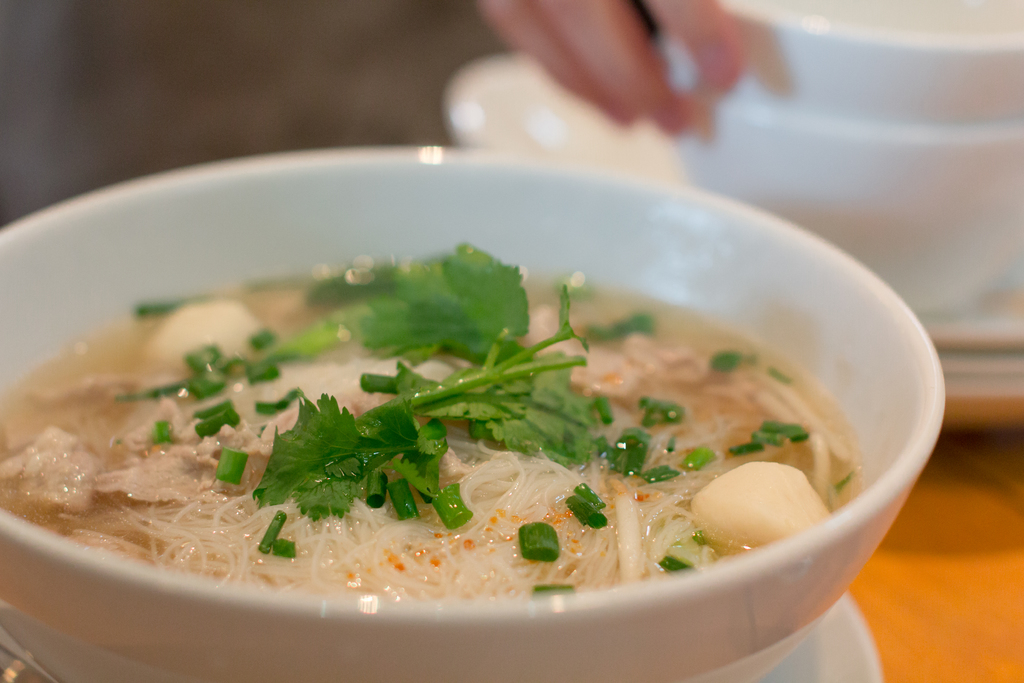person: (460, 0, 801, 176)
